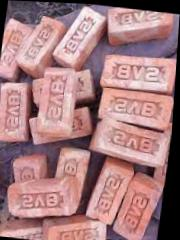brick: (91, 116, 172, 167), (97, 85, 174, 127), (99, 52, 177, 93), (110, 179, 162, 240), (86, 160, 135, 224), (54, 3, 104, 64), (4, 180, 74, 222), (14, 12, 63, 70), (36, 66, 76, 133), (106, 6, 175, 40), (0, 79, 34, 142), (0, 17, 32, 77), (53, 146, 88, 200), (47, 215, 106, 240), (0, 225, 48, 240)
